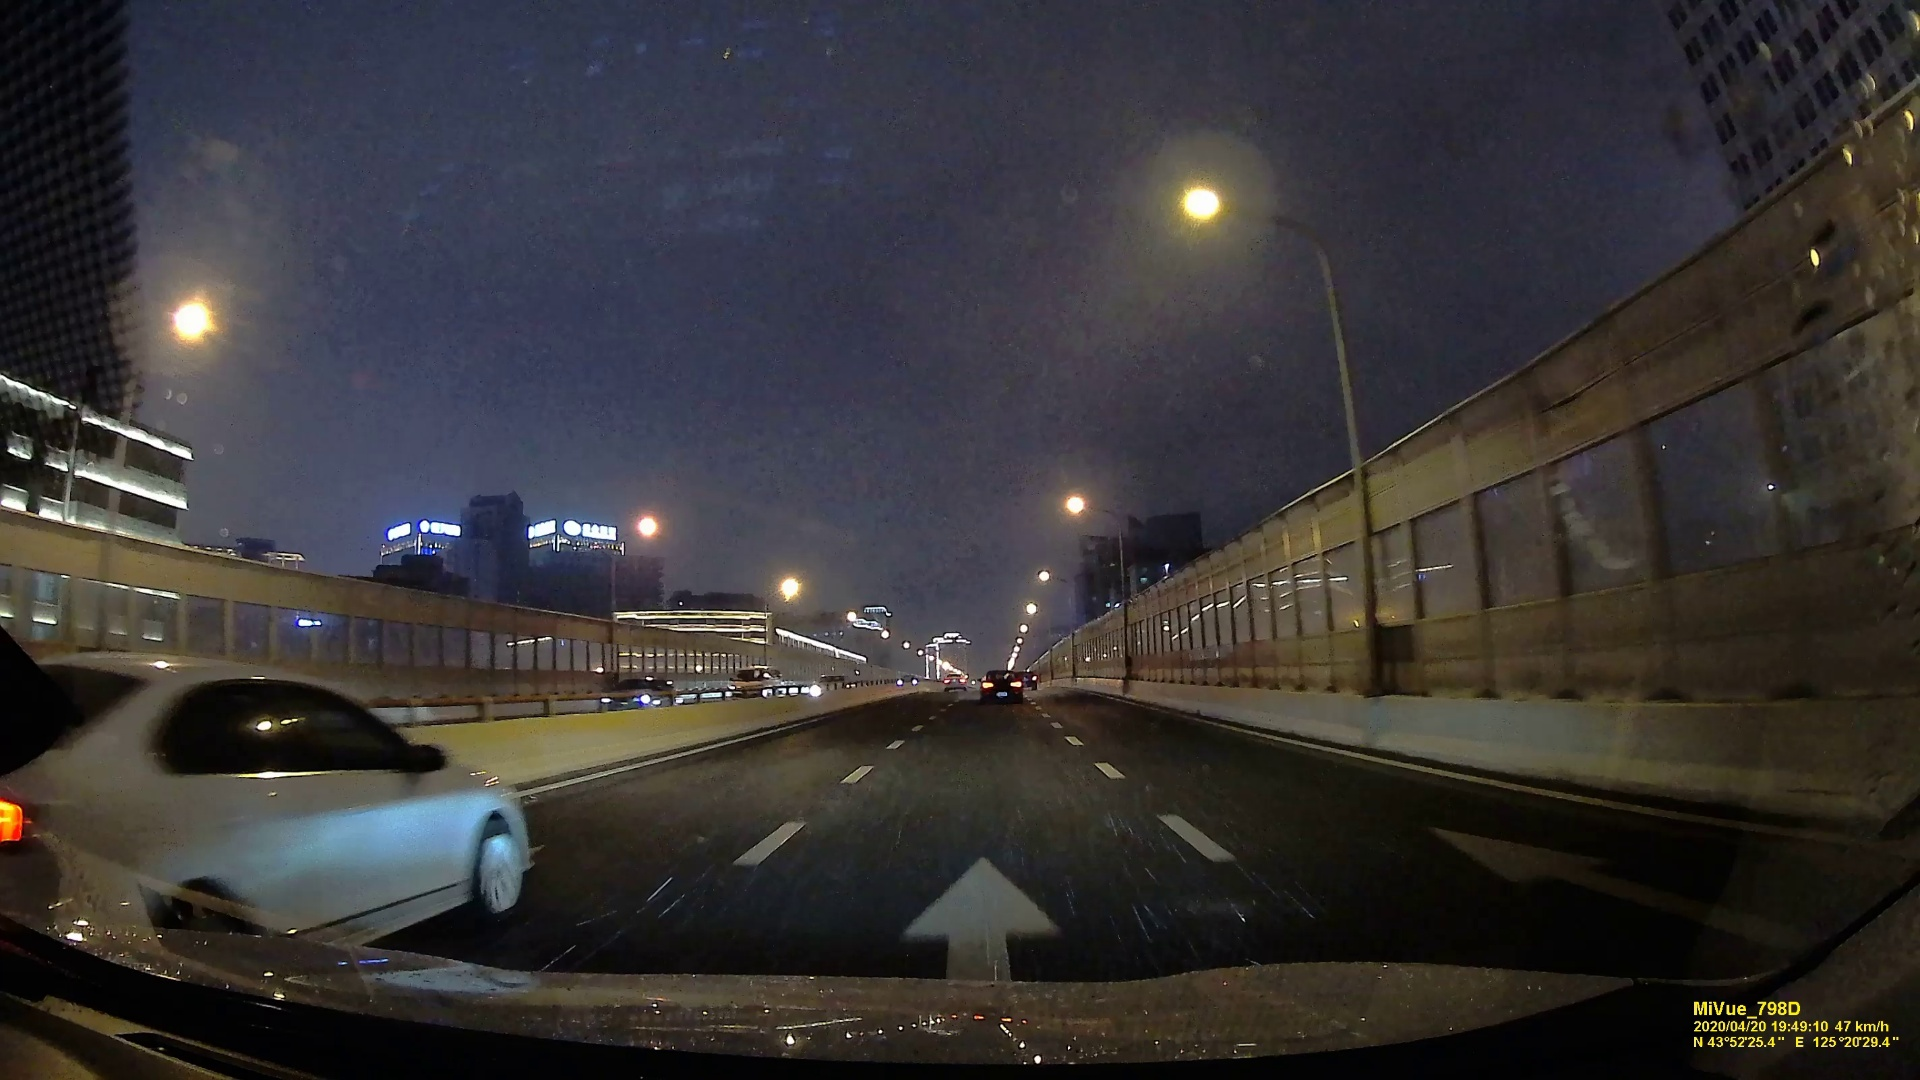vehicle: (3, 654, 527, 931), (603, 676, 674, 713), (731, 665, 781, 695), (978, 669, 1021, 698), (942, 671, 968, 690)
